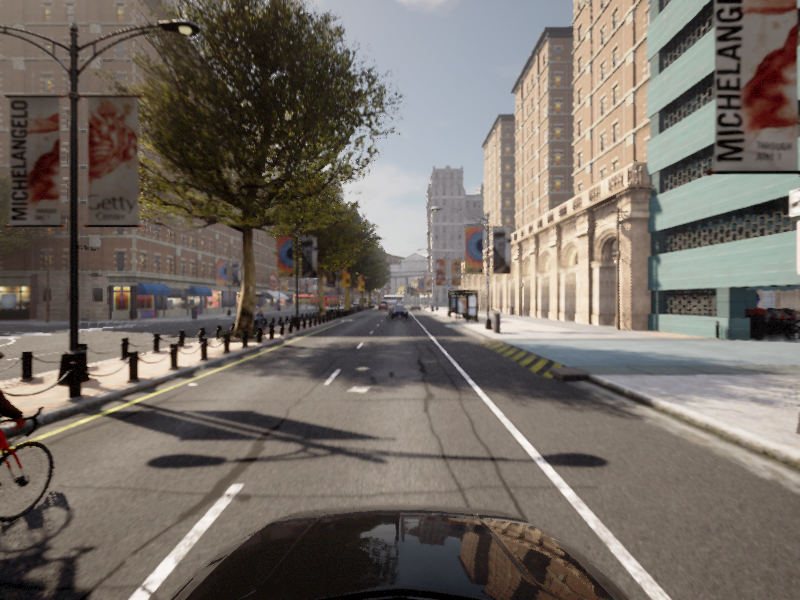vehicle: (1, 339, 83, 599), (251, 305, 268, 325), (238, 304, 256, 321), (387, 306, 408, 319)
